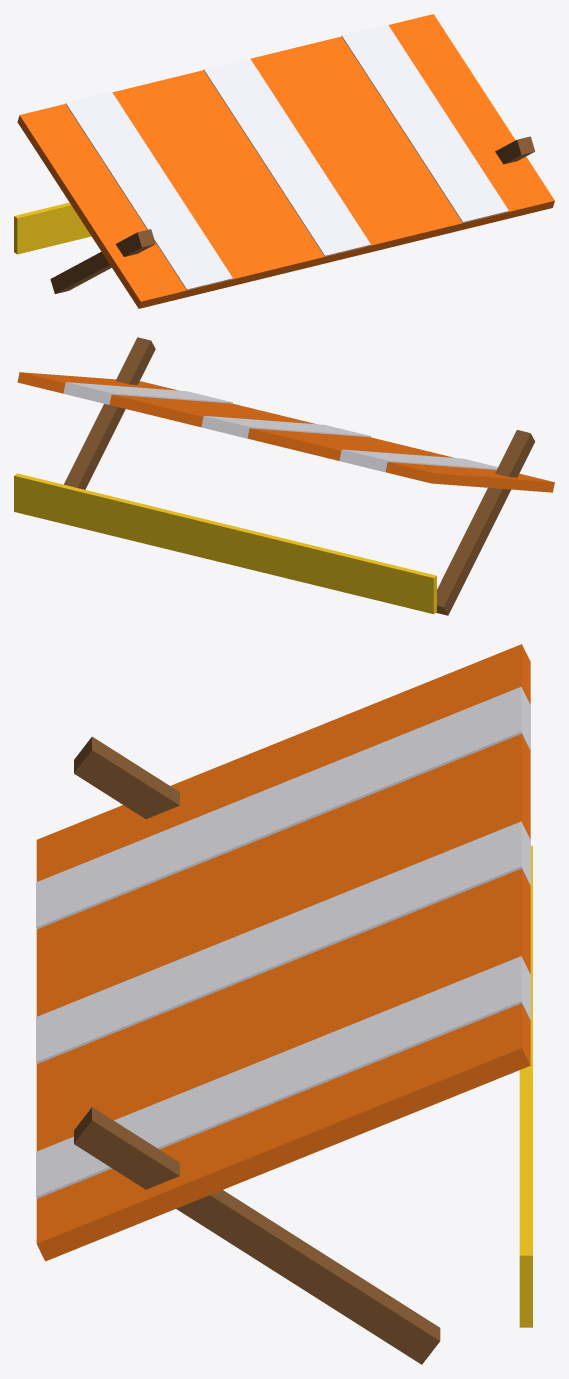
Rendered from market_awning.glb.
The picture shows the model from 3 angles, top to bottom: view 1: azimuth 30°, elevation 25°; view 2: azimuth 150°, elevation 25°; view 3: azimuth 270°, elevation 25°; orthographic projection. The views are drawn at different scales.
Visible parts, largest first — view 1: CanopyRoof, _MeshInstance3D_91, _MeshInstance3D_92, Stripe, ValenceDrop, WallStrut, _MeshInstance3D_93; view 2: ValenceDrop, CanopyRoof, WallStrut, _MeshInstance3D_93, _MeshInstance3D_91, _MeshInstance3D_92, Stripe; view 3: CanopyRoof, Stripe, _MeshInstance3D_91, _MeshInstance3D_92, _MeshInstance3D_93, WallStrut, ValenceDrop.
Boxes of the visible parts, left/top/right/bottom form: CanopyRoof: left=17, top=14, right=554, bottom=308; _MeshInstance3D_91: left=203, top=58, right=370, bottom=256; _MeshInstance3D_92: left=341, top=24, right=508, bottom=222; Stripe: left=65, top=91, right=232, bottom=290; ValenceDrop: left=14, top=202, right=91, bottom=254; WallStrut: left=50, top=229, right=155, bottom=293; _MeshInstance3D_93: left=495, top=136, right=535, bottom=164; ValenceDrop: left=14, top=473, right=436, bottom=614; CanopyRoof: left=17, top=372, right=554, bottom=492; WallStrut: left=436, top=430, right=535, bottom=615; _MeshInstance3D_93: left=64, top=337, right=155, bottom=489; _MeshInstance3D_91: left=201, top=416, right=370, bottom=438; _MeshInstance3D_92: left=63, top=382, right=232, bottom=404; Stripe: left=339, top=449, right=497, bottom=472; CanopyRoof: left=36, top=644, right=530, bottom=1261; Stripe: left=36, top=686, right=530, bottom=929; _MeshInstance3D_91: left=36, top=821, right=530, bottom=1063; _MeshInstance3D_92: left=36, top=956, right=530, bottom=1198; _MeshInstance3D_93: left=74, top=1107, right=440, bottom=1364; WallStrut: left=74, top=736, right=179, bottom=818; ValenceDrop: left=519, top=846, right=532, bottom=1327.
Bounding box in the file's own units: 3.65 × 1.37 × 1.87.
